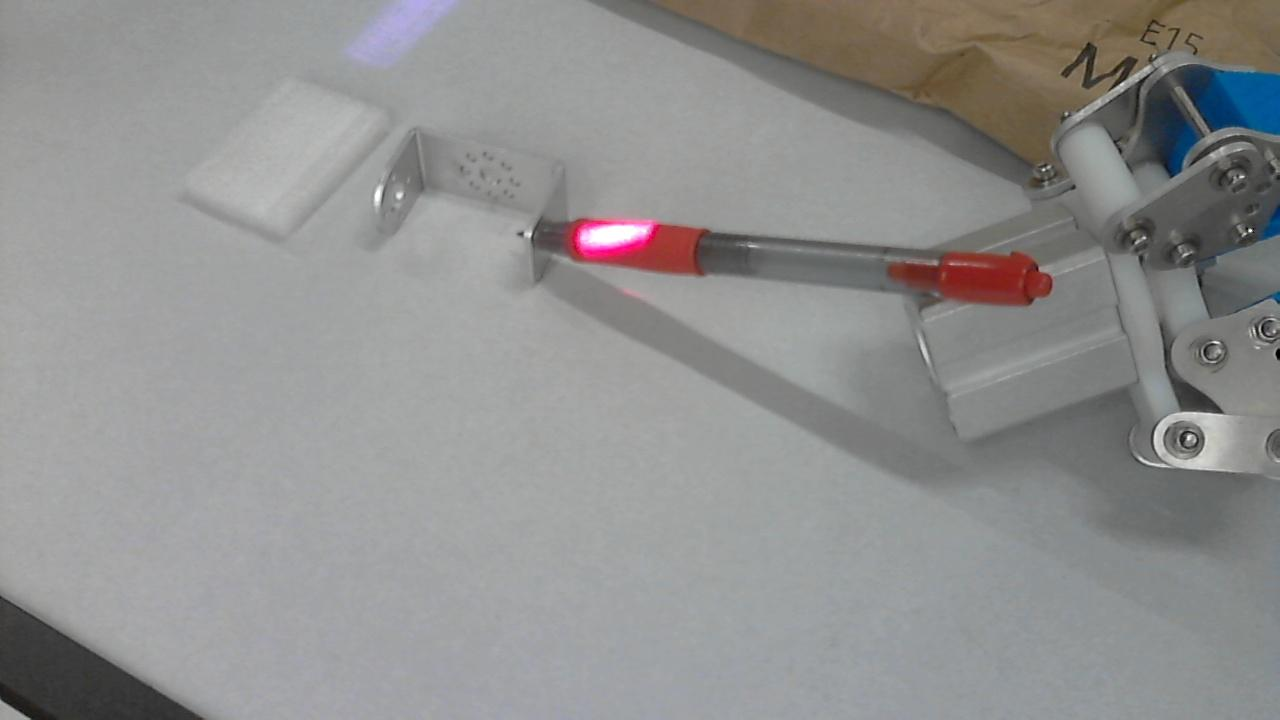Object ballpoint pen - Material rubber - Color red - Pdfname Tg2wygrqE5uZ: (560, 211, 662, 258)
